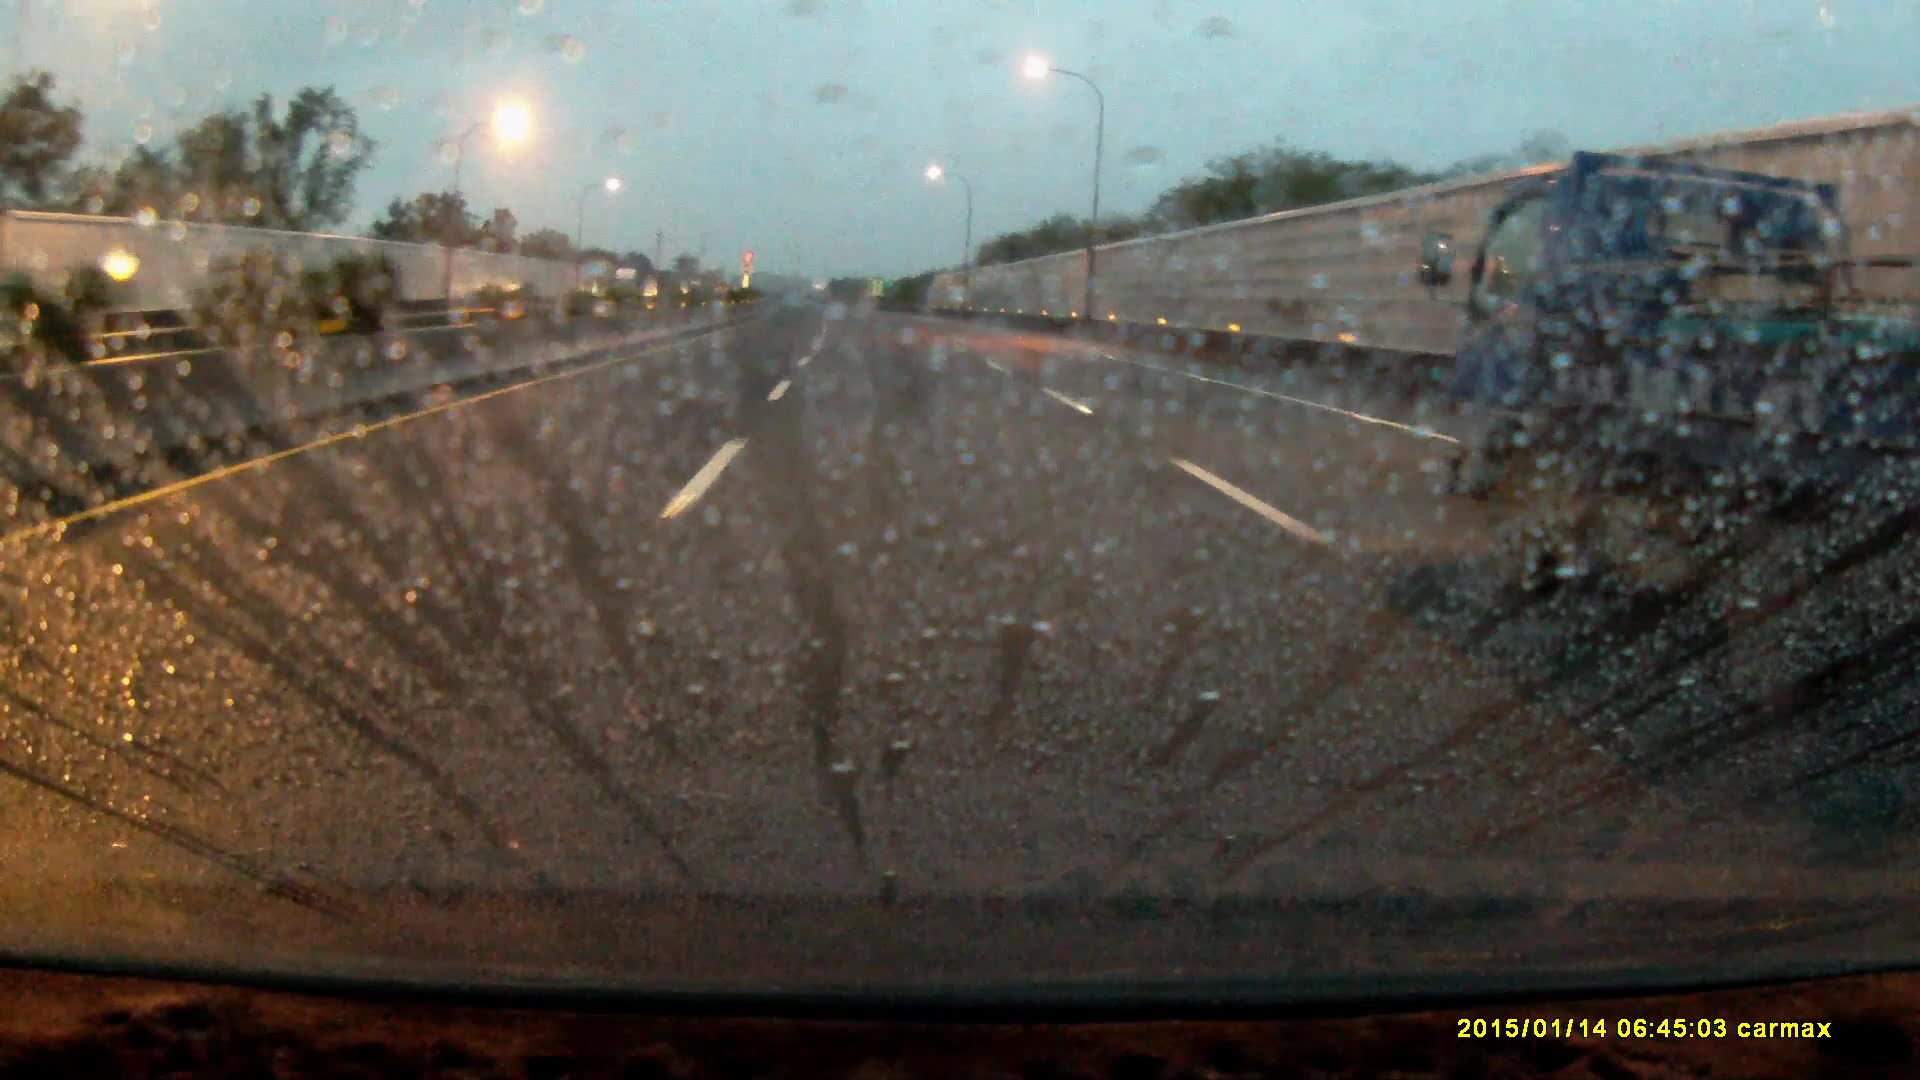vehicle: (1453, 160, 1920, 611), (615, 268, 647, 305)
